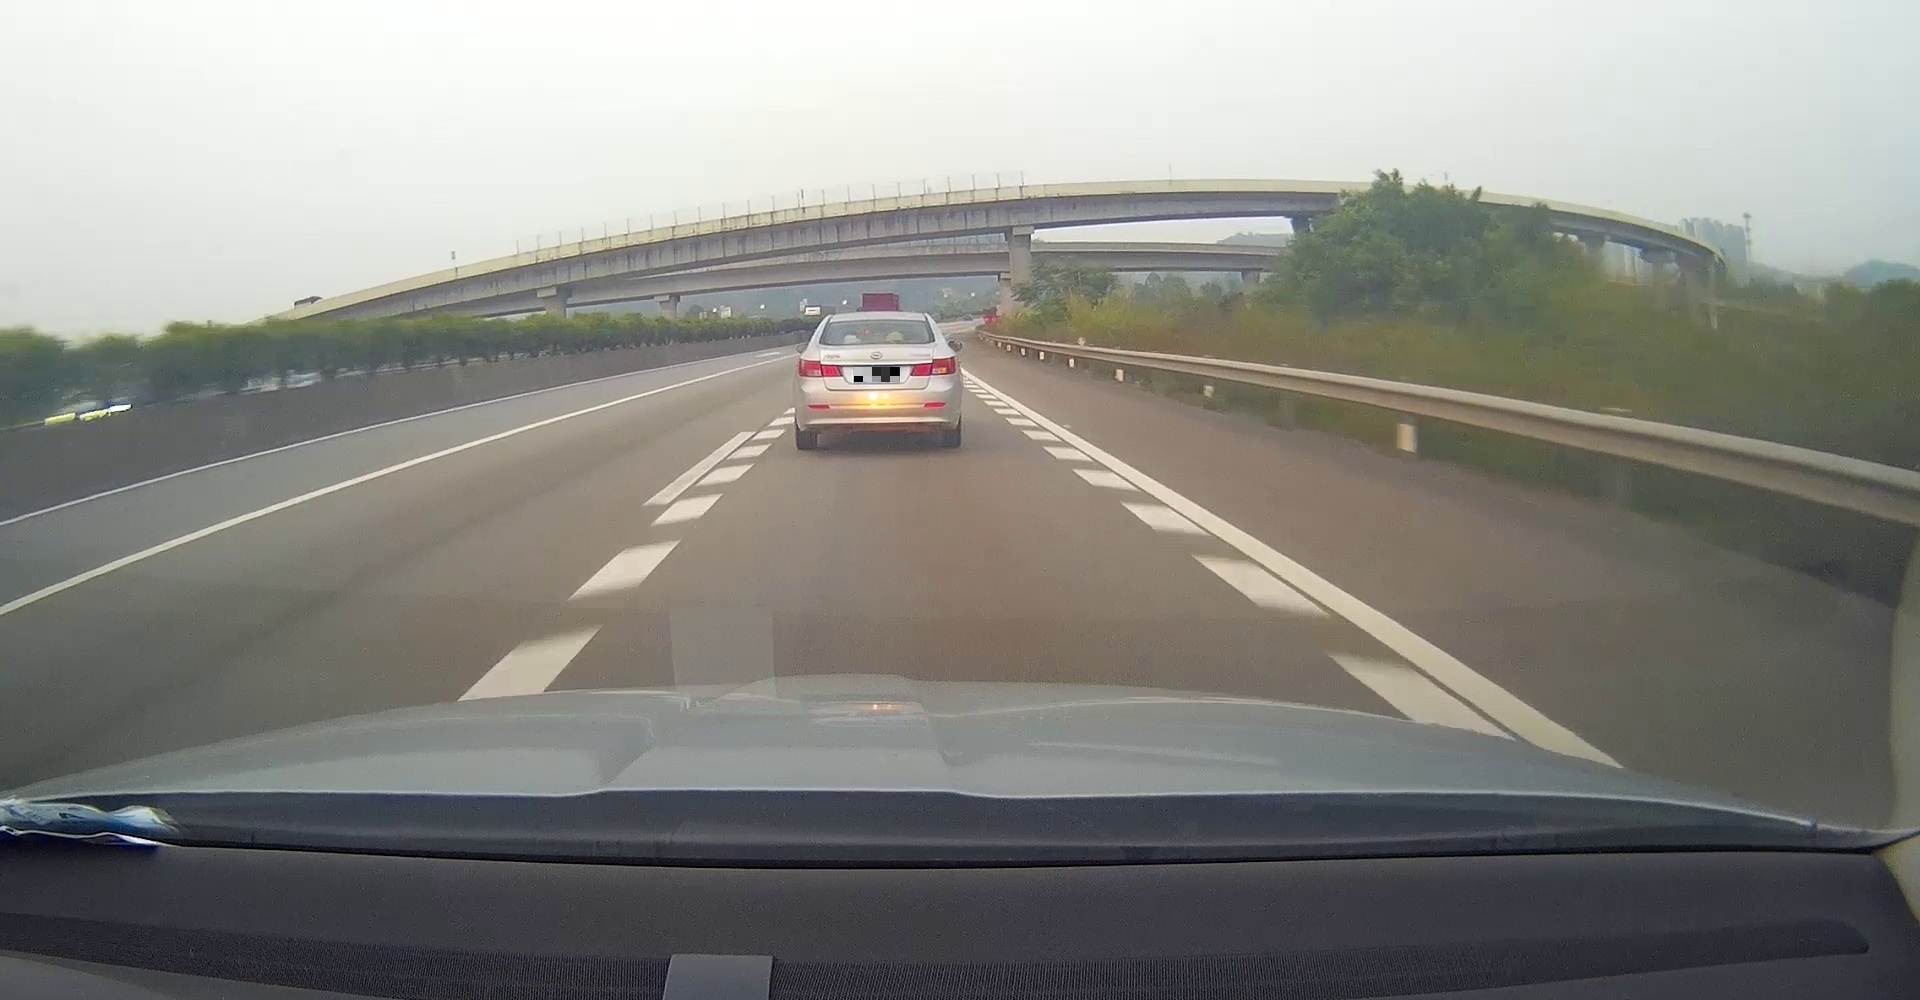L_light: (799, 358, 843, 378)
R_light: (909, 357, 957, 377)
T_light: (865, 339, 883, 344)
day-right: (795, 311, 963, 451)
plate_1: (855, 367, 900, 382)
